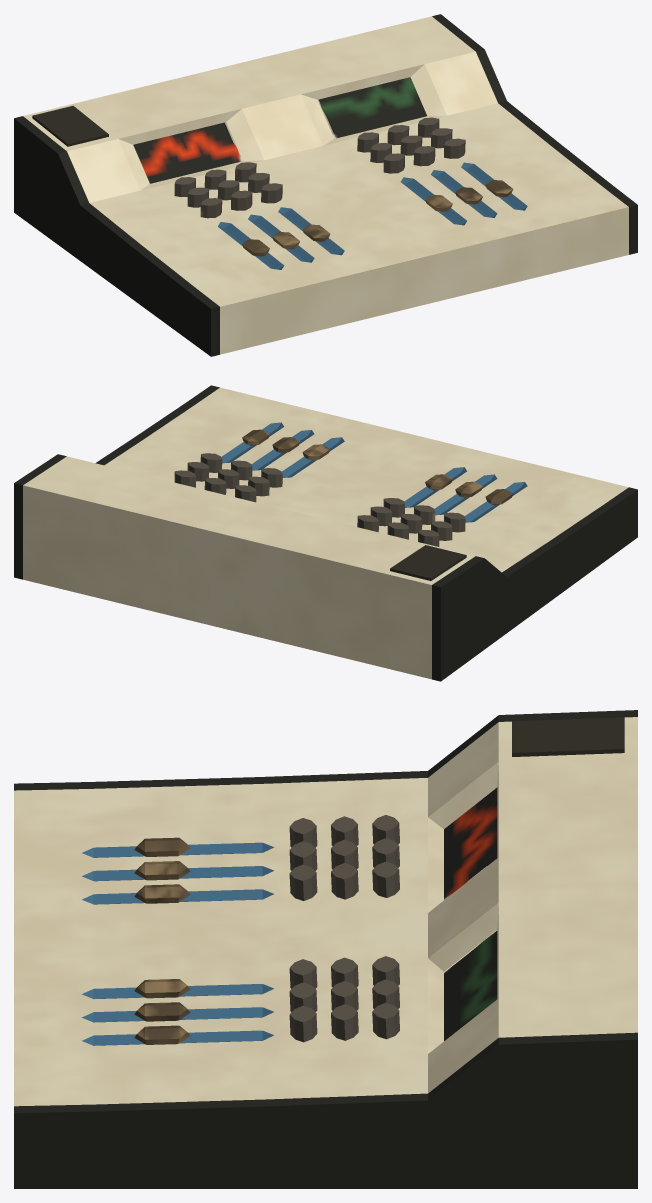
The model's file is deck.fbx.
The picture shows the model from 3 angles, top to bottom: view 1: azimuth 30°, elevation 25°; view 2: azimuth 150°, elevation 25°; view 3: azimuth 270°, elevation 25°; orthographic projection. The views are drawn at different scales.
Parts seen in each view (by area): view 1: Cube; view 2: Cube; view 3: Cube.
Part boxes in pixels (box(x1,y1,x2,y2)): Cube: box(14, 14, 637, 356); Cube: box(14, 385, 637, 681); Cube: box(14, 710, 637, 1188).
Bounding box in the file's own units: 14 × 3.03 × 11.2.
Materials: 1 (1 with a texture image).
